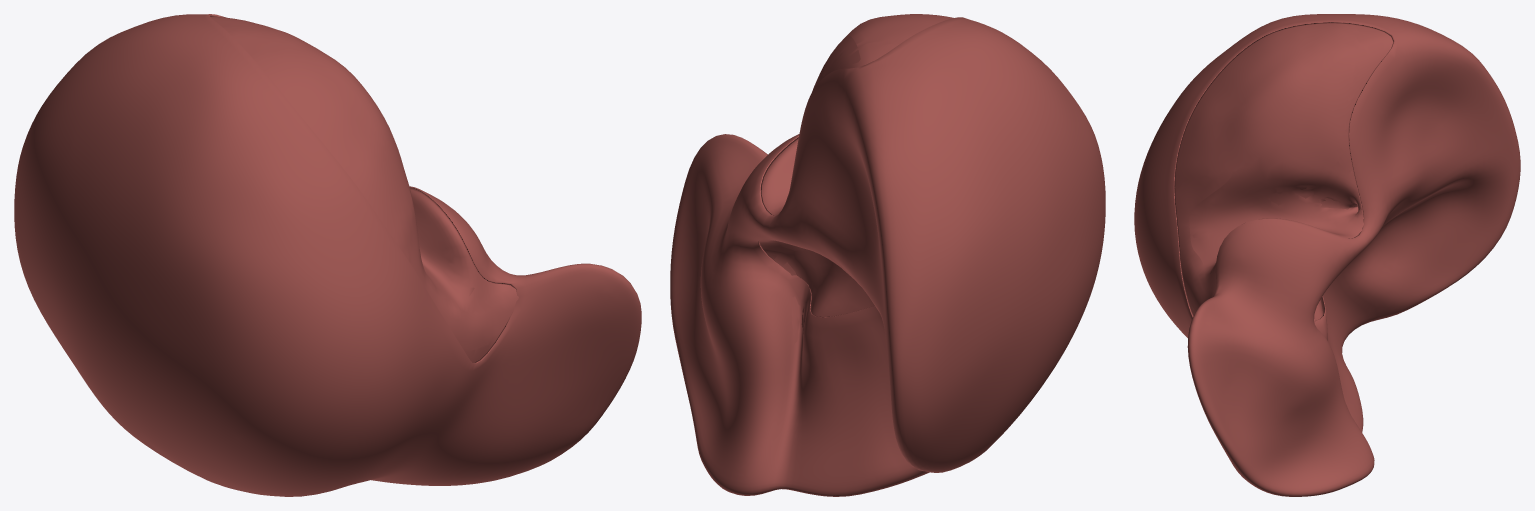
File: Digestive_System.fbx
The picture shows the model from 3 angles, left to right: view 1: azimuth 30°, elevation 25°; view 2: azimuth 150°, elevation 25°; view 3: azimuth 270°, elevation 25°; orthographic projection. The views are drawn at different scales.
Parts seen in each view (by area): view 1: Liver_Right_Lobe, Caudate_Lobe; view 2: Liver_Right_Lobe, Caudate_Lobe; view 3: Liver_Right_Lobe, Caudate_Lobe.
Boxes of the visible parts, bbox=[...] form: Liver_Right_Lobe: bbox=[14, 14, 641, 496]; Caudate_Lobe: bbox=[409, 185, 518, 347]; Liver_Right_Lobe: bbox=[670, 14, 1105, 496]; Caudate_Lobe: bbox=[760, 156, 824, 258]; Liver_Right_Lobe: bbox=[1134, 14, 1520, 496]; Caudate_Lobe: bbox=[1175, 170, 1363, 310].
Bounding box in the file's own units: 0.1914 × 0.1939 × 0.1746.
